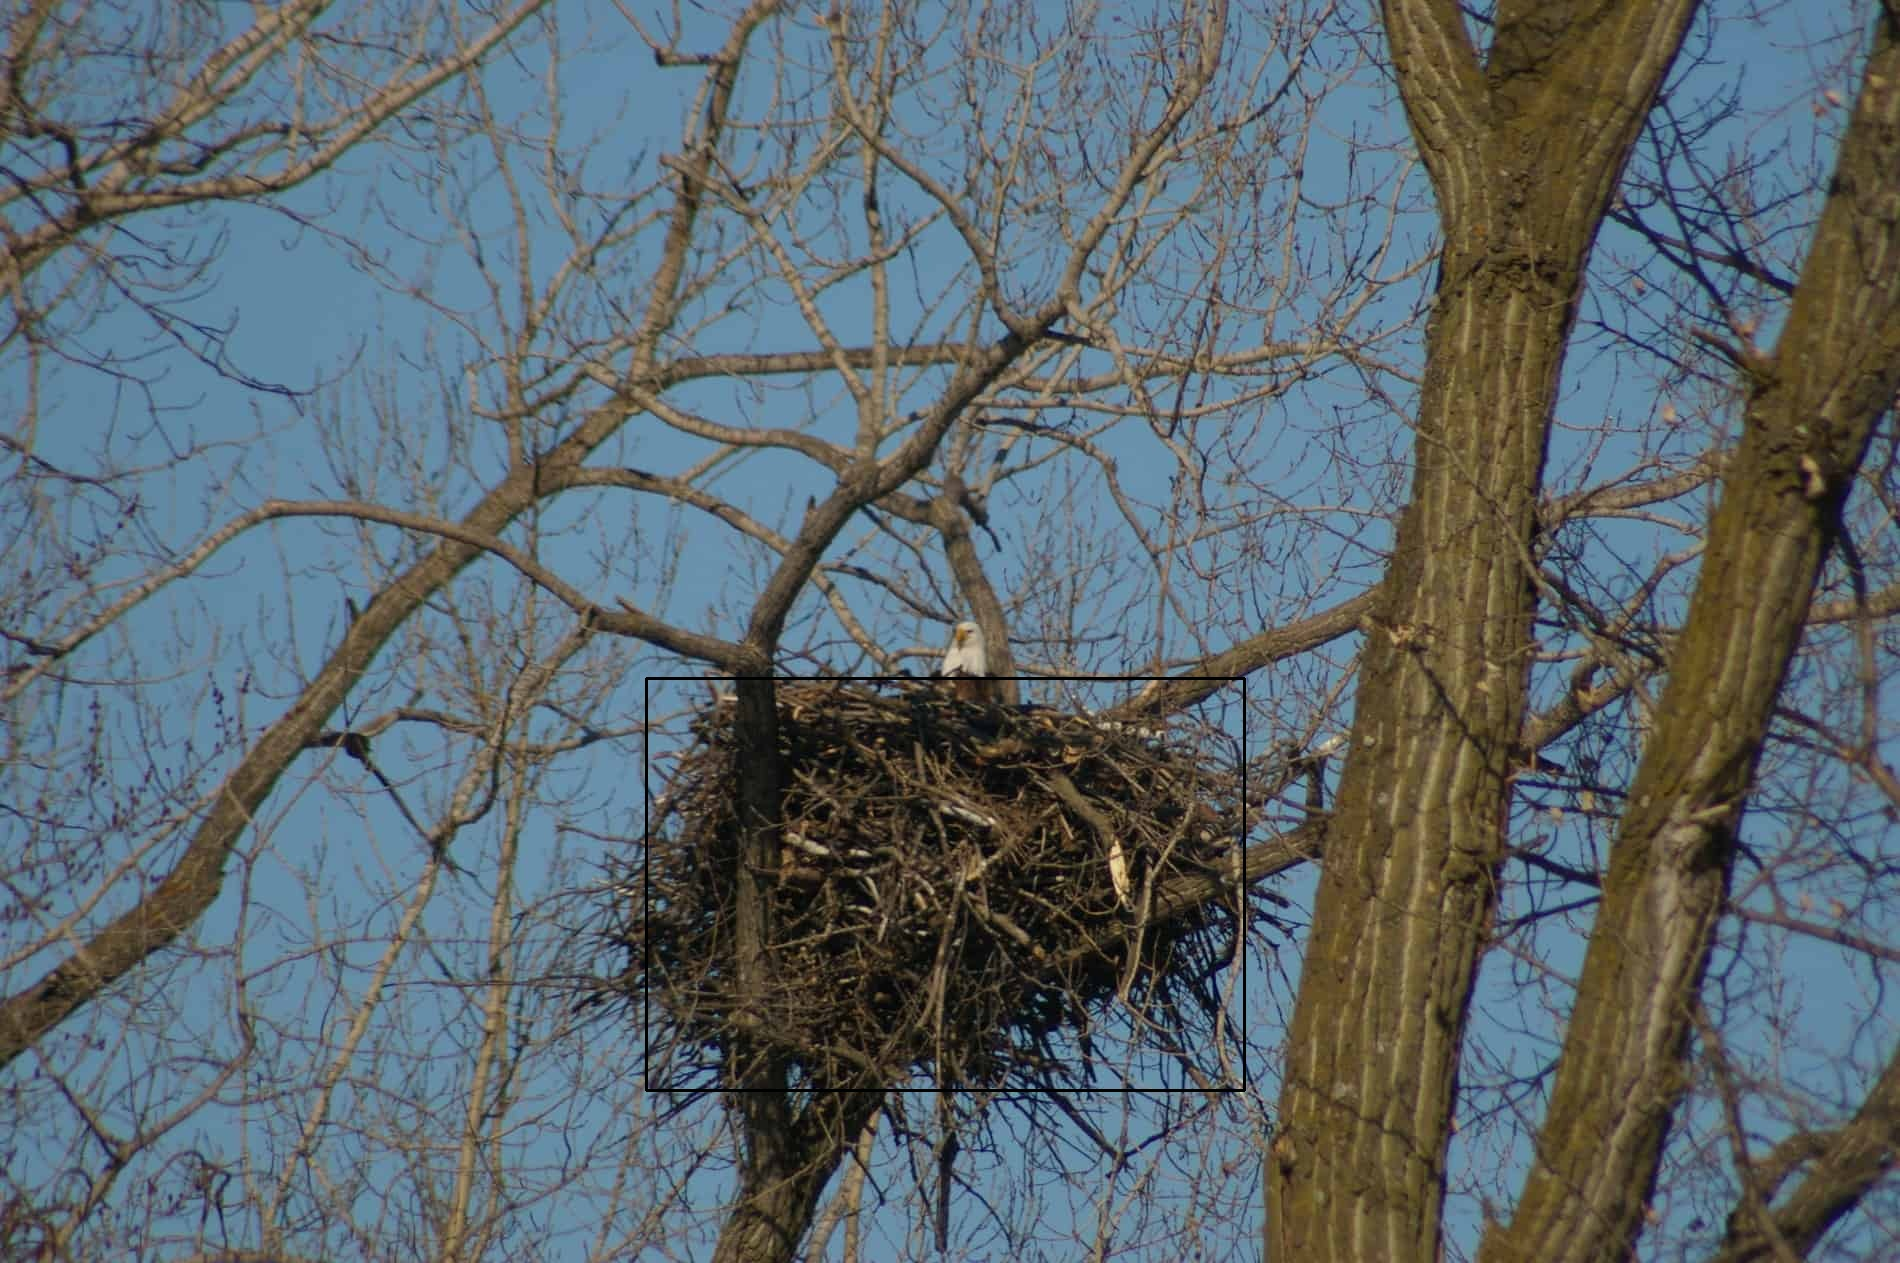bird-nest: (646, 678, 1245, 1090)
